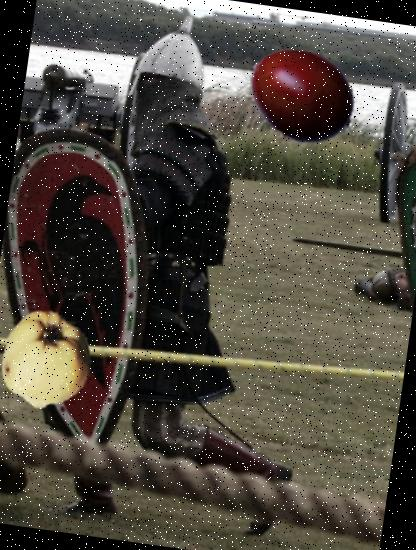Quince: (0, 305, 102, 416)
Tamarillo: (238, 31, 367, 160)
